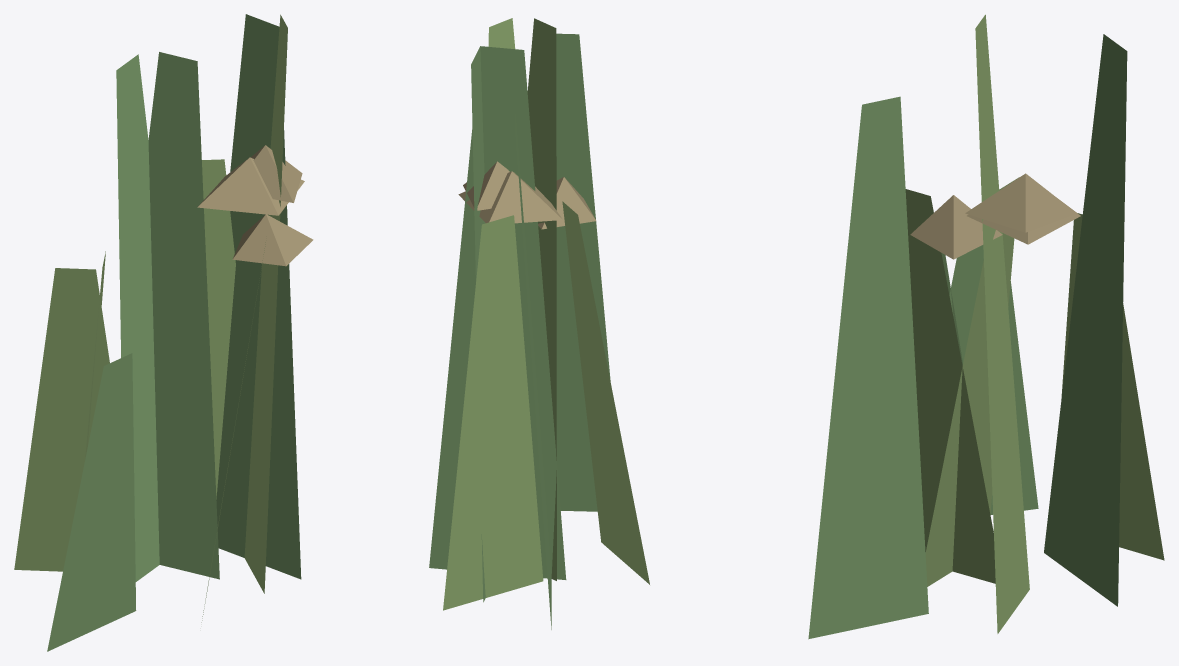
The model's file is shrub.trop.savanna_grass__bloom.glb.
3 views of the same model, side by side, from view 1: azimuth 30°, elevation 25°; view 2: azimuth 150°, elevation 25°; view 3: azimuth 270°, elevation 25° (orthographic). The views are drawn at different scales.
Visible parts, largest first — view 1: shrub.trop.savanna_grass__bloom; view 2: shrub.trop.savanna_grass__bloom; view 3: shrub.trop.savanna_grass__bloom.
Boxes of the visible parts, x1,y1,x2,y2 form: shrub.trop.savanna_grass__bloom: (14,14,313,651); shrub.trop.savanna_grass__bloom: (429,18,649,629); shrub.trop.savanna_grass__bloom: (808,14,1164,639).
Size of the model in its own units: 0.7467 by 1.26 by 0.6909.
